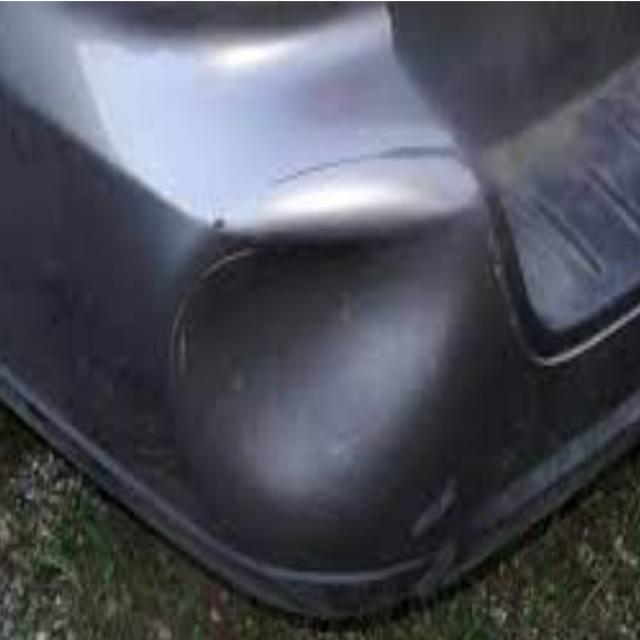dents: (171, 204, 471, 494)
